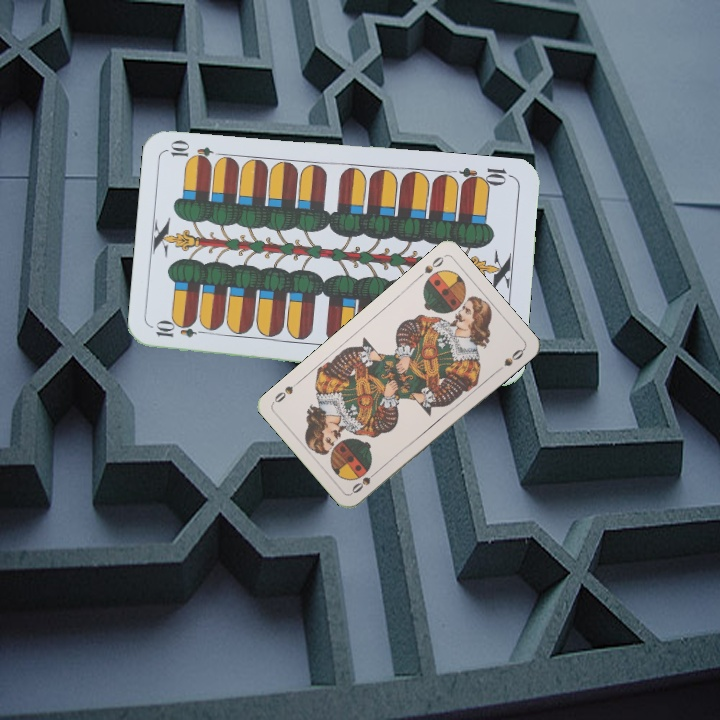E10: (456, 163, 515, 190), (152, 320, 211, 341)
SO: (348, 466, 382, 496), (413, 252, 447, 282)
